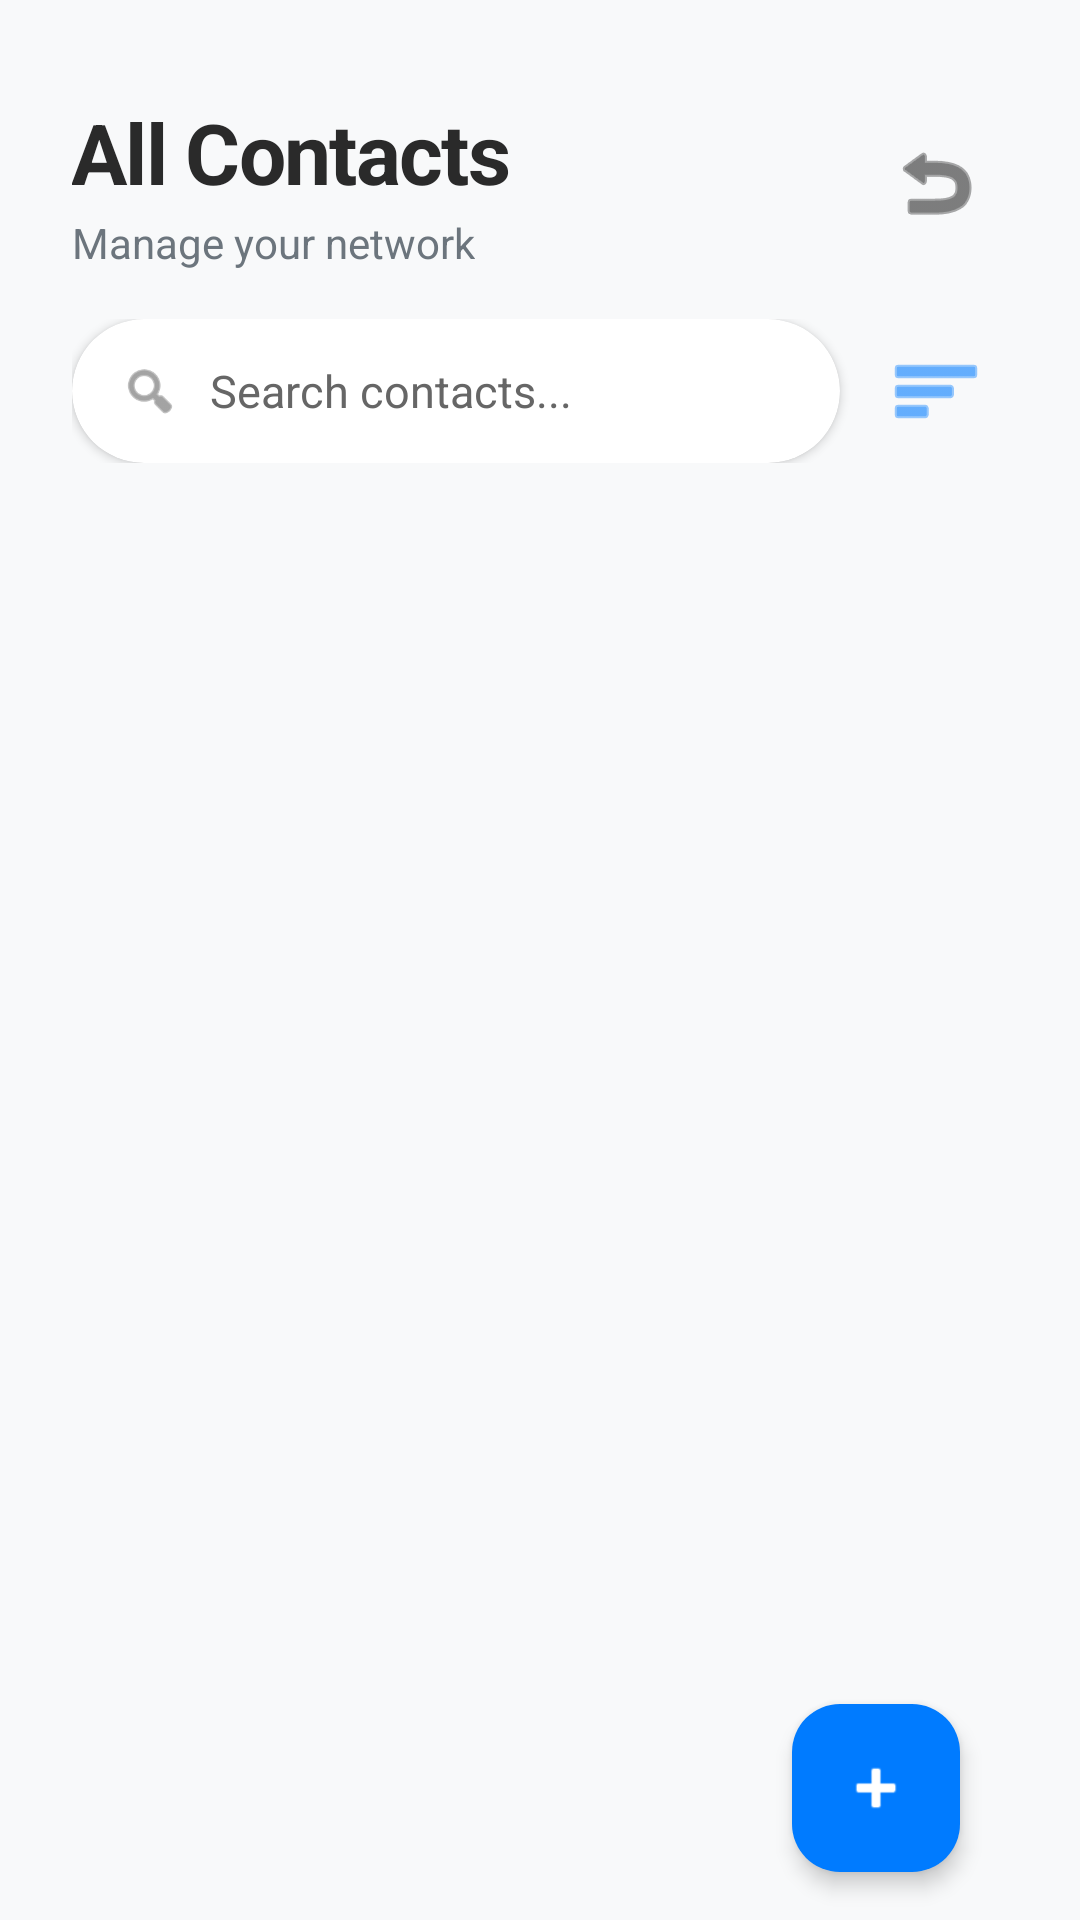

Named icons in this screenshot (1080px x 1920px) and their bounding boxes, box=[x1, y1, x2, y2]:
add: box=[792, 1704, 960, 1872]
revert: box=[903, 152, 972, 215]
sort by size: box=[895, 365, 977, 418]
